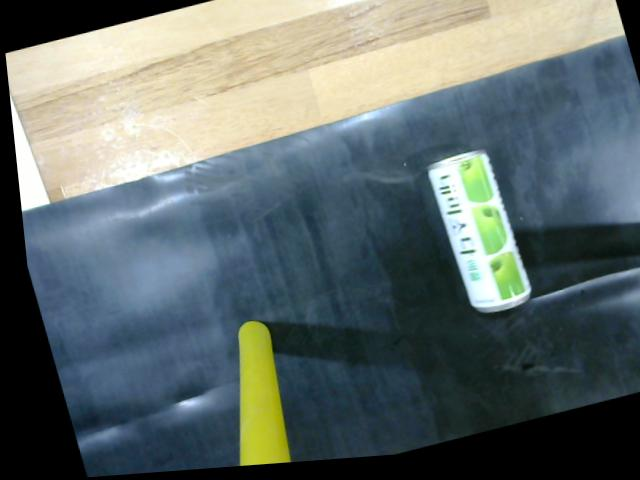can: (414, 145, 533, 325)
